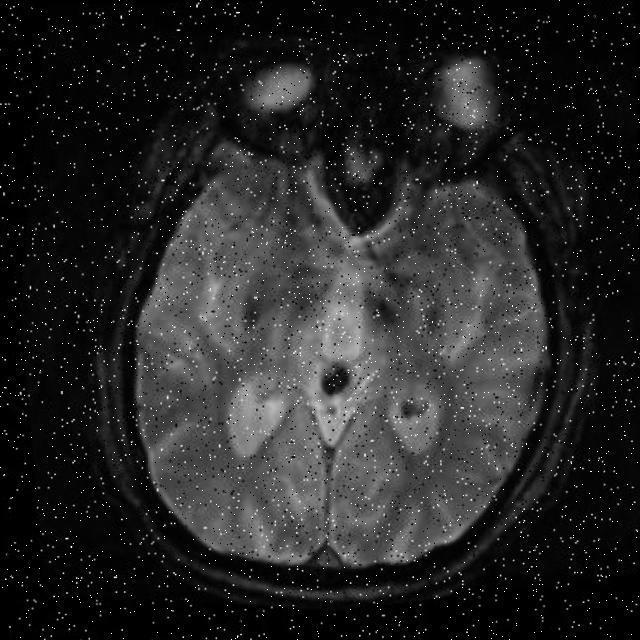MCI: (206, 264, 330, 364), (349, 248, 440, 344)
